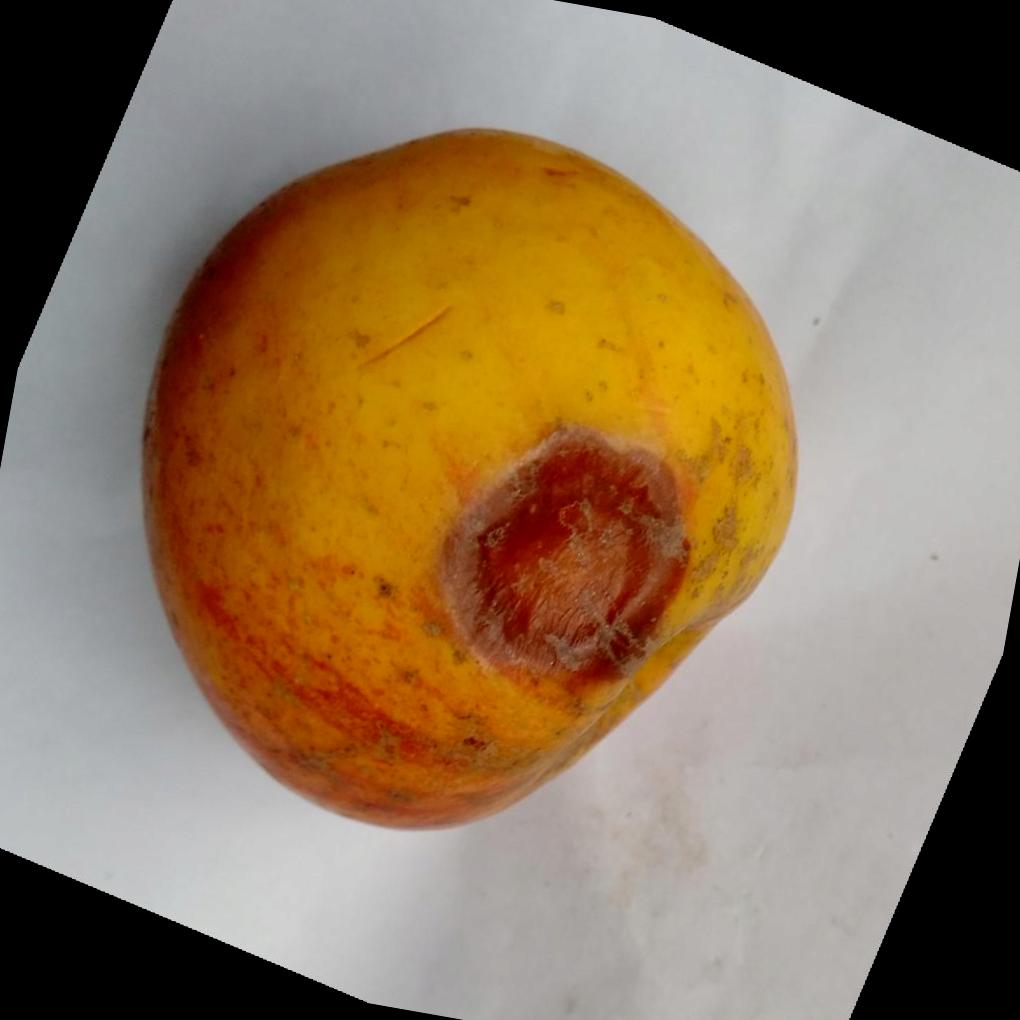FreshOrange: (137, 127, 798, 834)
